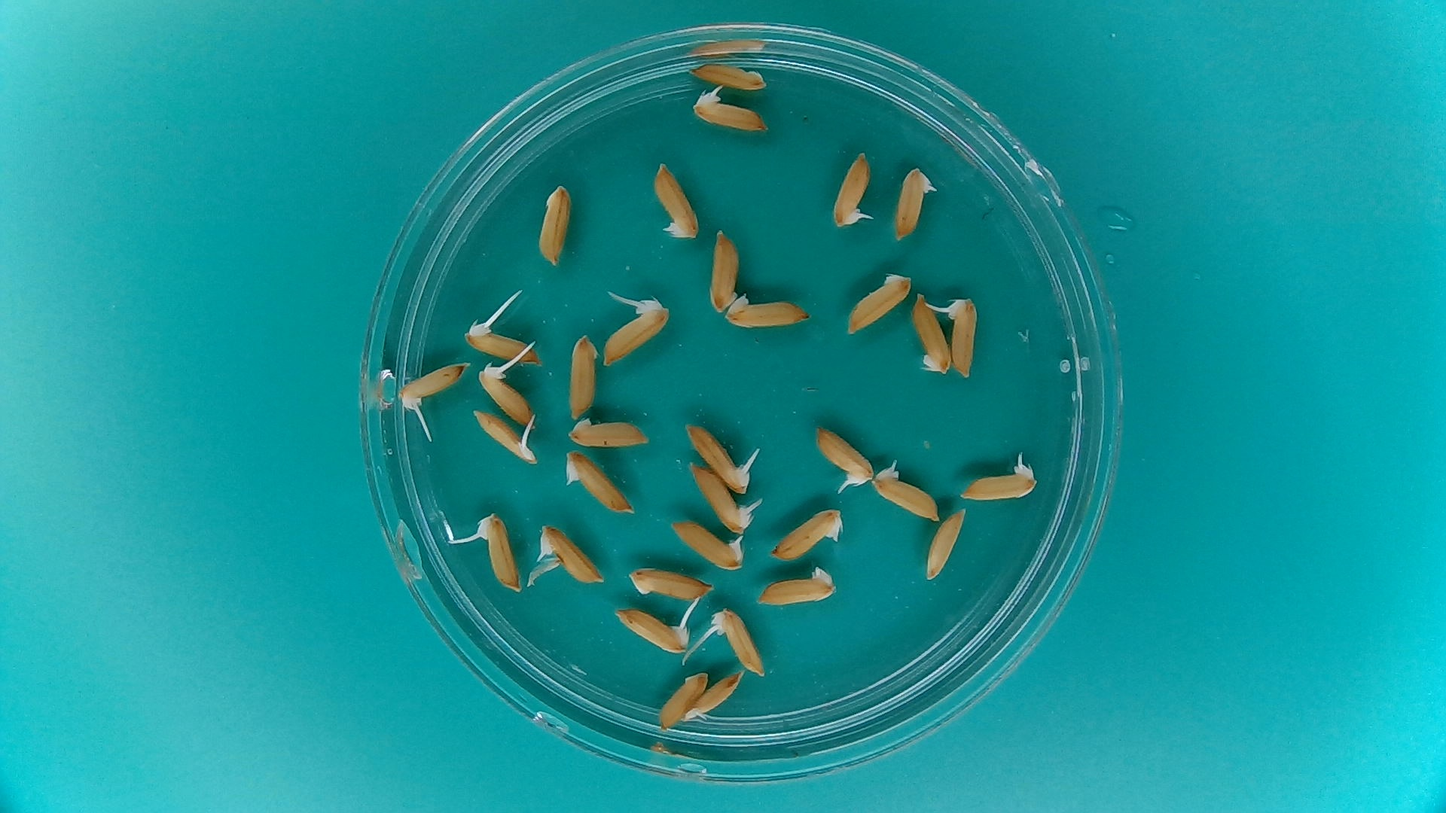no: (844, 270, 914, 336), (650, 156, 703, 242), (532, 177, 575, 269), (911, 291, 953, 377), (753, 565, 838, 607), (923, 505, 969, 582), (770, 512, 845, 559), (718, 294, 815, 330), (626, 563, 713, 603), (706, 224, 743, 315), (656, 668, 708, 729), (565, 416, 652, 450), (566, 330, 599, 419), (686, 59, 767, 92)
yes: (562, 446, 636, 516), (685, 422, 752, 497), (535, 520, 606, 587), (598, 301, 666, 368), (689, 467, 755, 535), (889, 160, 939, 247), (477, 363, 538, 432), (829, 147, 877, 230), (669, 520, 747, 571), (712, 609, 767, 678), (472, 411, 541, 466), (871, 470, 940, 523), (472, 512, 517, 592), (816, 428, 874, 489), (397, 360, 466, 411), (612, 610, 691, 653), (689, 92, 770, 133), (466, 321, 541, 362), (944, 295, 980, 380), (685, 670, 743, 721), (962, 467, 1039, 503)
